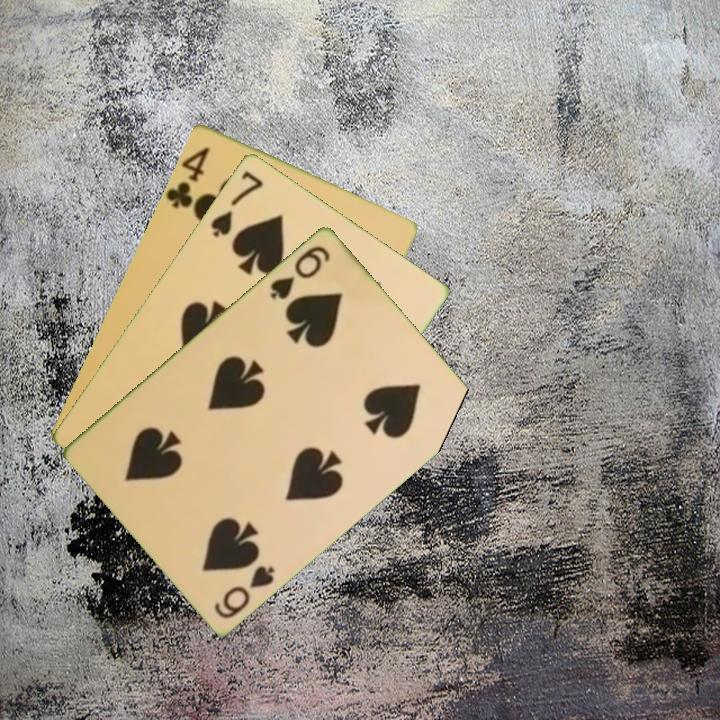4c: (163, 142, 212, 211)
6s: (266, 241, 333, 302), (210, 561, 278, 621)
7s: (207, 166, 267, 240)
